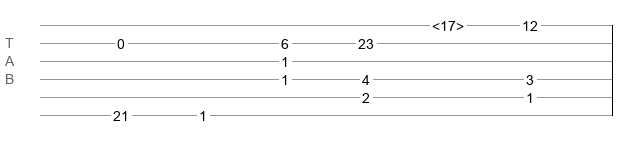0: (117, 36, 125, 46)
1: (199, 108, 207, 118), (281, 72, 289, 82), (281, 54, 289, 64), (526, 90, 534, 100)
12: (522, 18, 538, 28)
2: (362, 90, 370, 100)
21: (113, 108, 129, 118)
23: (358, 36, 374, 46)
3: (526, 72, 534, 82)
4: (362, 72, 370, 82)
6: (281, 36, 289, 46)
harmonic: (432, 18, 464, 28)
